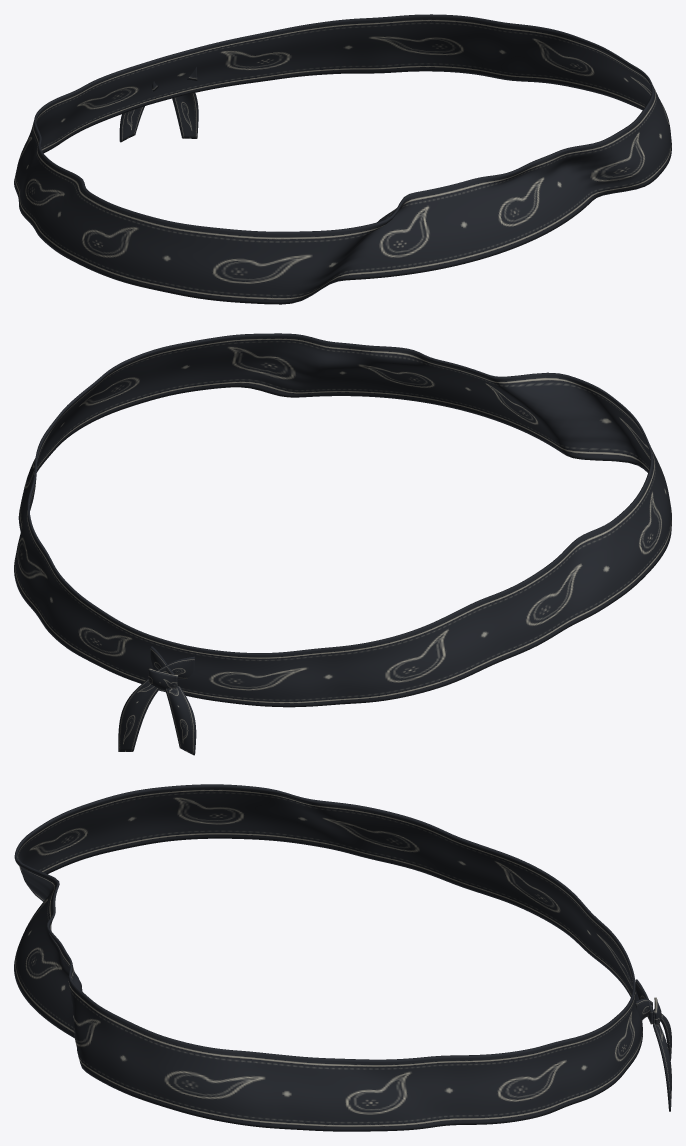
Rendered from Masculine-flow-bandana.glb.
The picture shows the model from 3 angles, top to bottom: view 1: azimuth 30°, elevation 25°; view 2: azimuth 150°, elevation 25°; view 3: azimuth 270°, elevation 25°; orthographic projection. The views are drawn at different scales.
Parts seen in each view (by area): view 1: Bandana / folded forehead wrap, Bandana / falling tie 1, Bandana / falling tie -1; view 2: Bandana / folded forehead wrap, Bandana / falling tie 1, Bandana / falling tie -1; view 3: Bandana / folded forehead wrap, Bandana / falling tie 1.
Boxes of the visible parts, left/top/right/bottom form: Bandana / folded forehead wrap: left=14, top=14, right=671, bottom=304; Bandana / falling tie 1: left=172, top=93, right=198, bottom=138; Bandana / falling tie -1: left=119, top=106, right=144, bottom=142; Bandana / folded forehead wrap: left=14, top=333, right=671, bottom=707; Bandana / falling tie 1: left=118, top=679, right=159, bottom=751; Bandana / falling tie -1: left=165, top=686, right=196, bottom=755; Bandana / folded forehead wrap: left=14, top=784, right=642, bottom=1131; Bandana / falling tie 1: left=653, top=1010, right=671, bottom=1111.
Bounding box in the file's own units: 0.8806 × 0.267 × 0.8368.
1 material, 1 textured.
